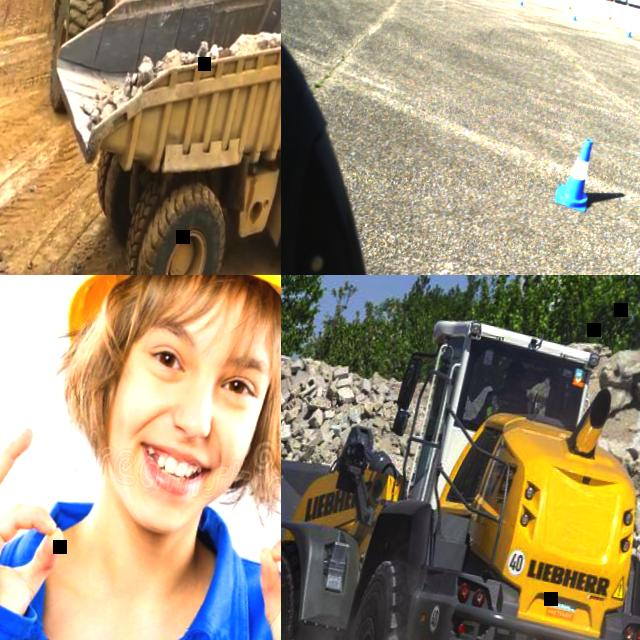Hardhat: (60, 275, 281, 389), (506, 359, 527, 378)
NO-Mask: (100, 424, 242, 541)
NO-Safety Vest: (0, 503, 281, 640)
Person: (0, 275, 281, 640), (464, 355, 541, 439)
Safety Cone: (553, 134, 599, 212), (625, 22, 634, 38), (571, 7, 579, 20), (606, 12, 613, 24), (565, 3, 572, 13), (517, 0, 525, 5)
Safety Vest: (484, 388, 535, 427)
vehicle: (281, 275, 640, 640), (8, 0, 281, 275), (26, 0, 281, 149)
